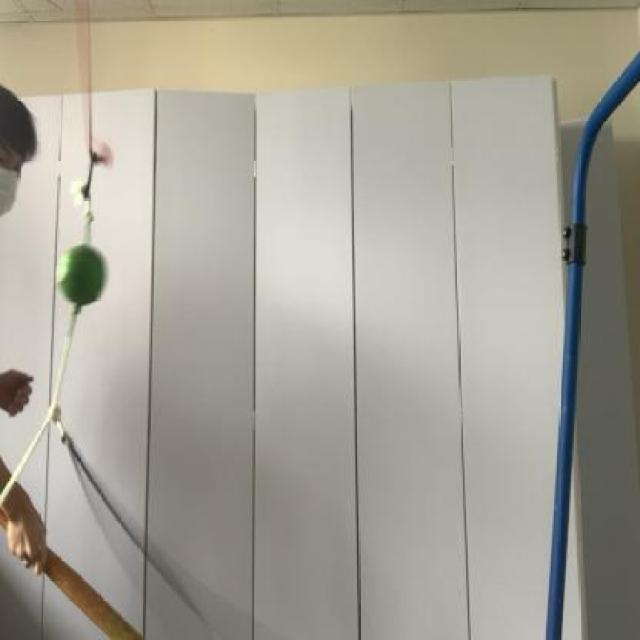baseball: (54, 231, 109, 312)
